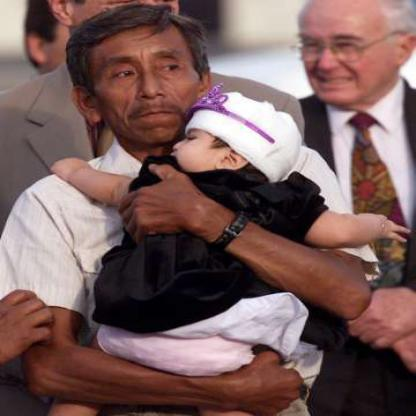face: (87, 8, 200, 147), (294, 1, 399, 107)
